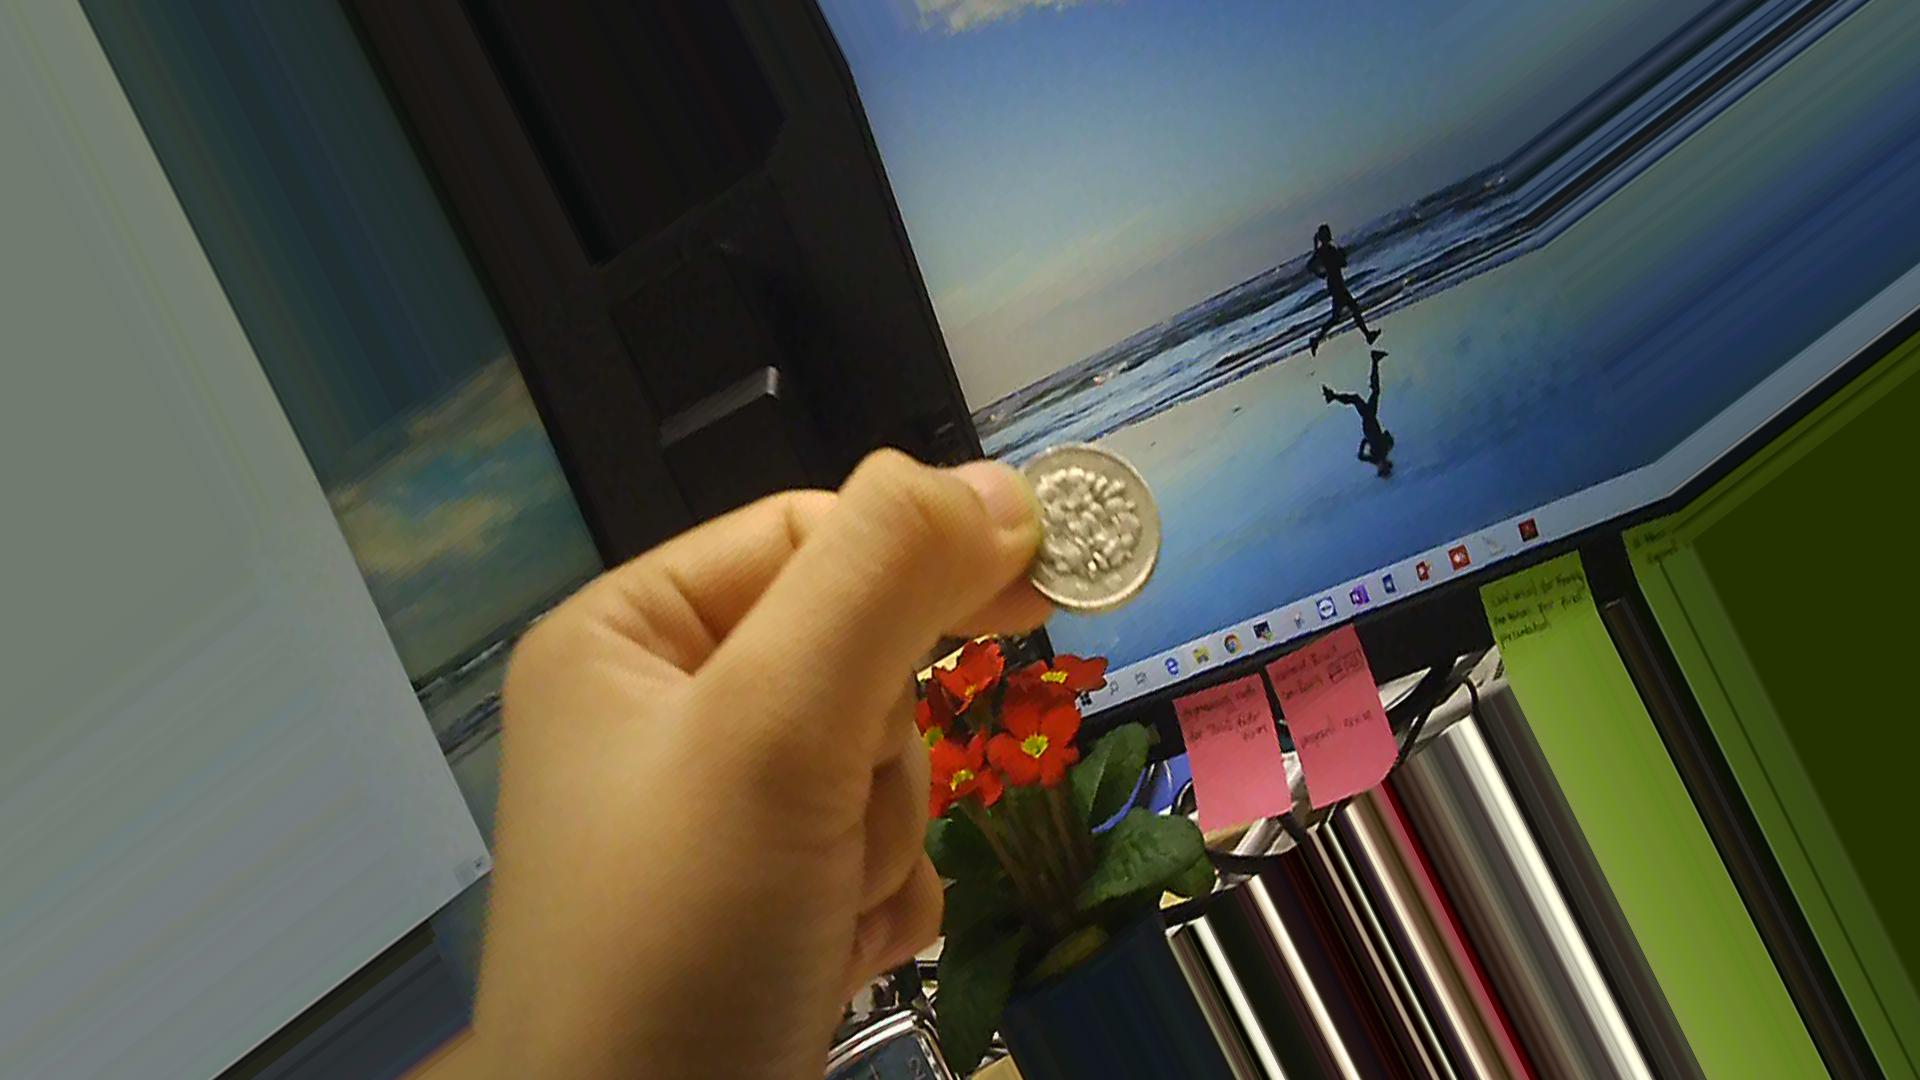100 Yen: (1000, 436, 1188, 634)
